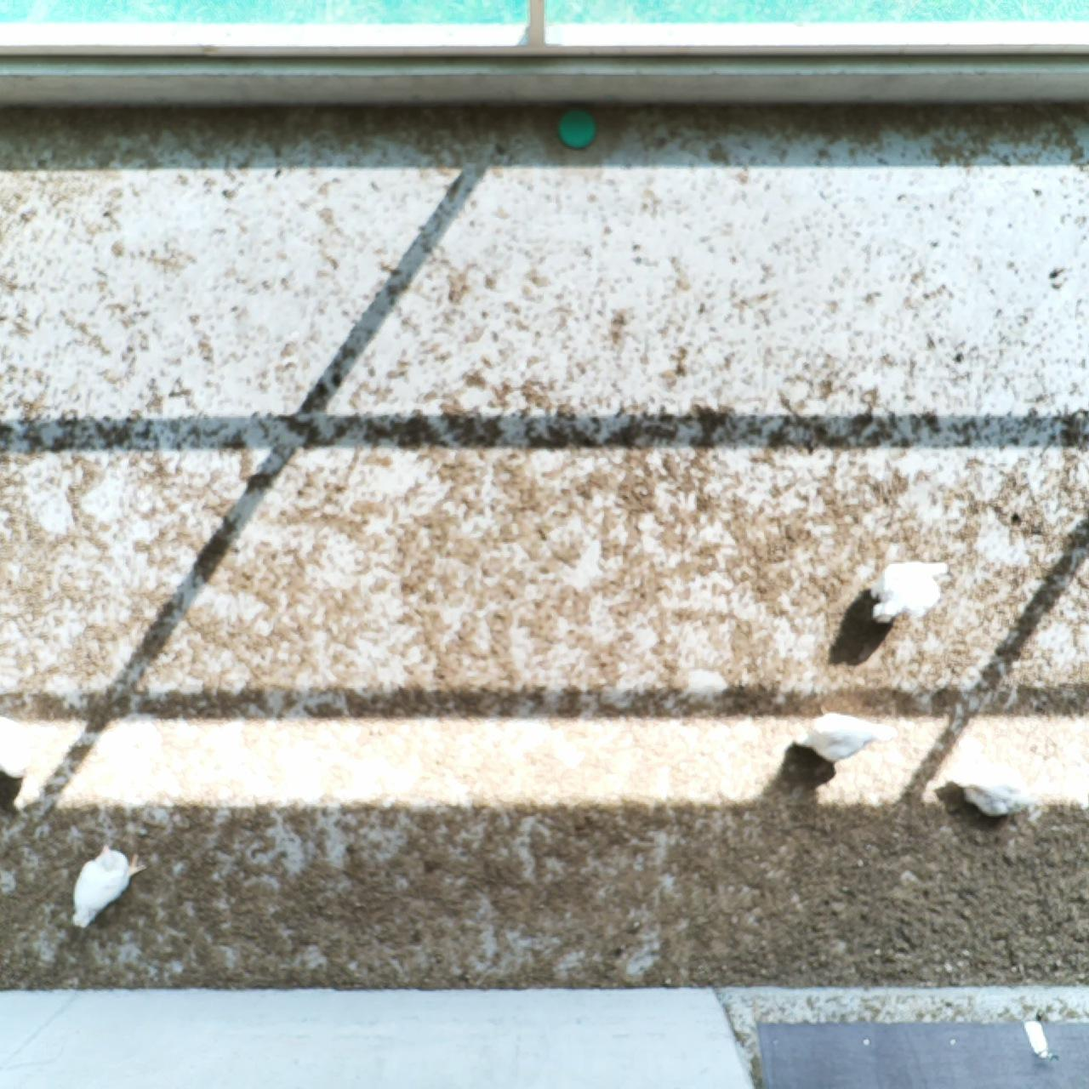chicken: (67, 841, 147, 929), (868, 557, 953, 628), (793, 708, 878, 765), (958, 770, 1035, 822), (0, 709, 45, 777)
